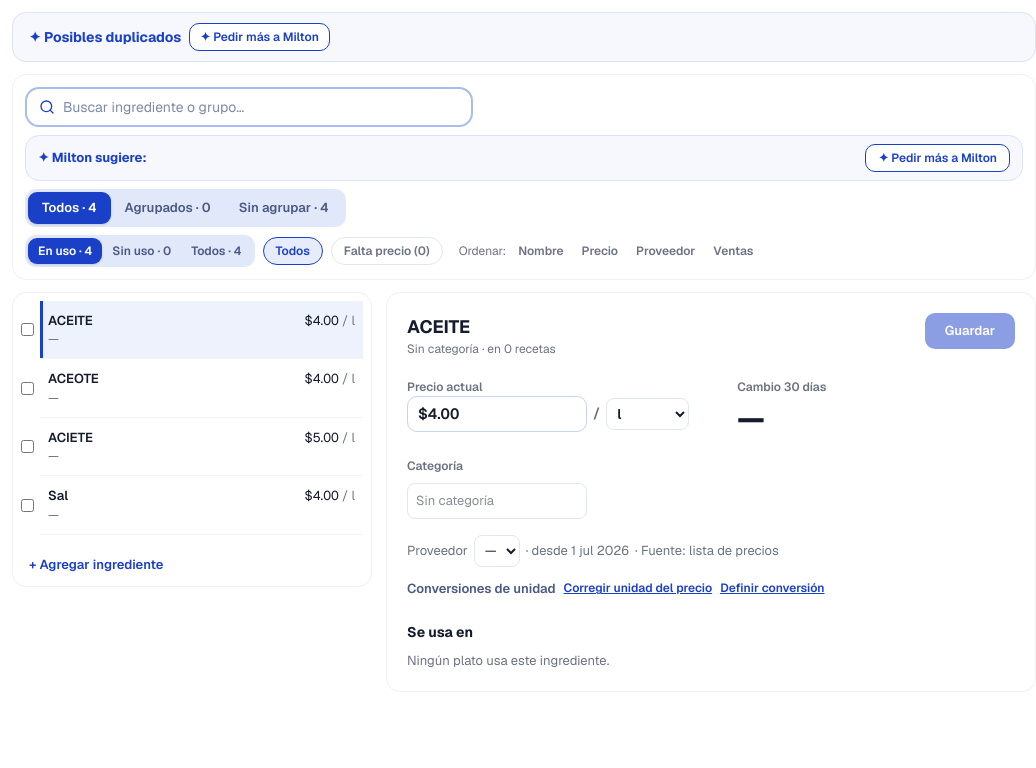
Test: «Unir…» in the selection bar › appears only with 2 or more selected
Click the checkbox named "Seleccionar ACEITE": (28, 330) [21,323,34,336]
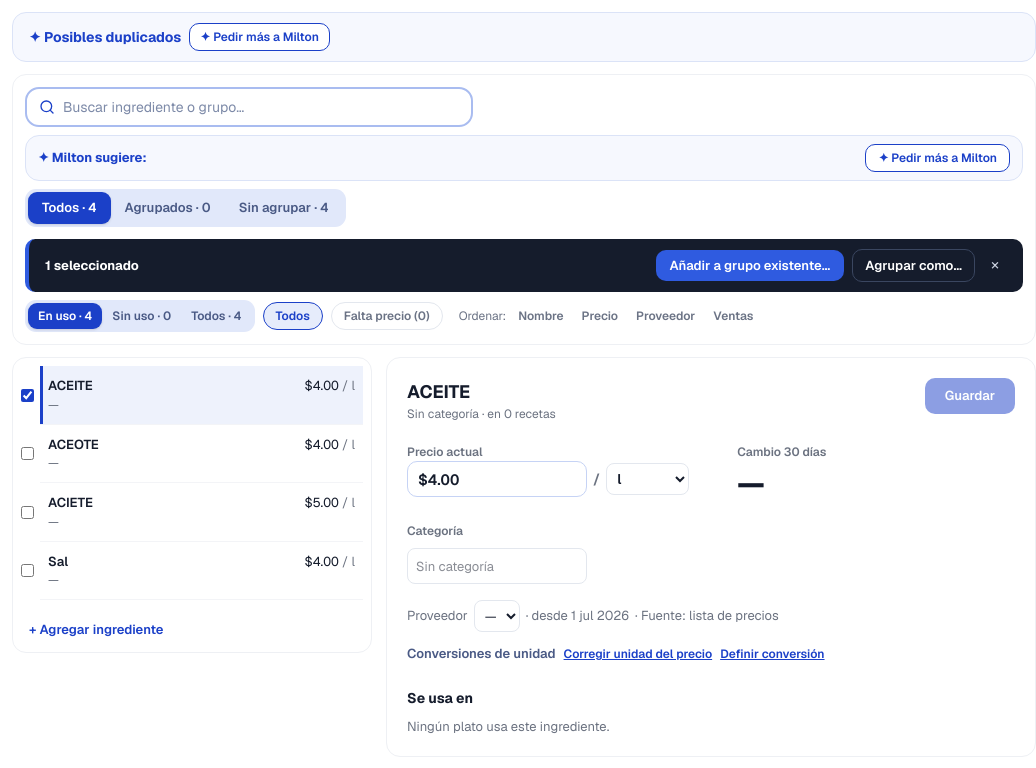
Expected: the button "Unir…" is not shown
Click the checkbox named "Seleccionar ACEOTE": (28, 454) [21,447,34,460]
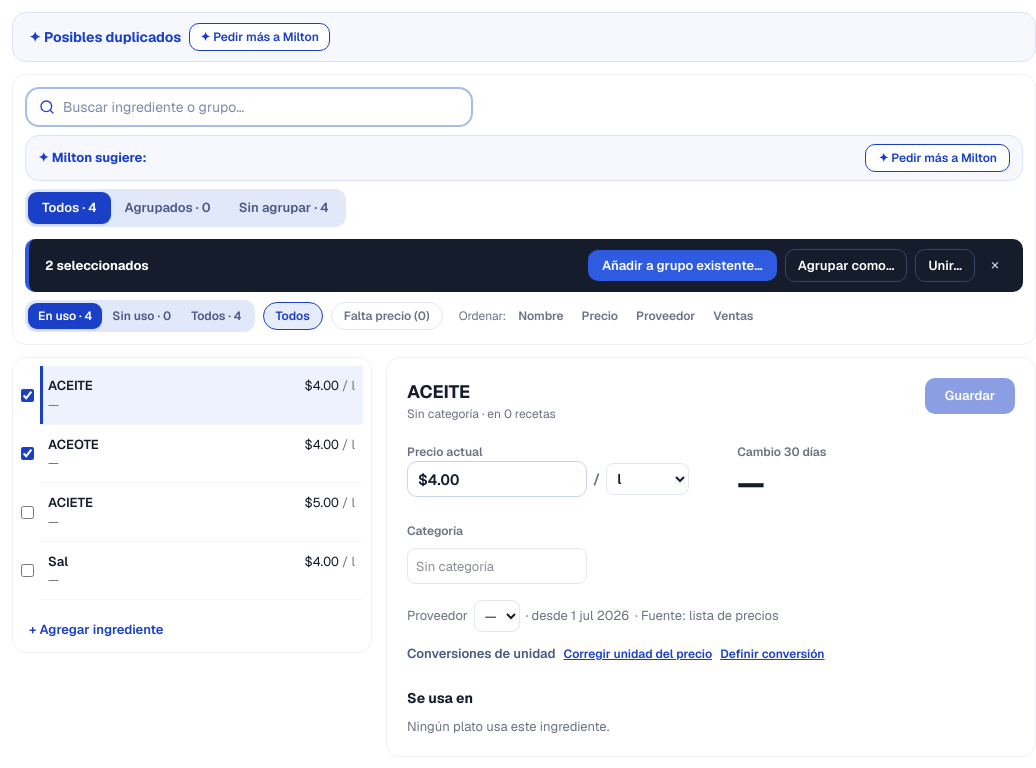
Expected: the button "Unir…" is shown, [916,248,975,282]
